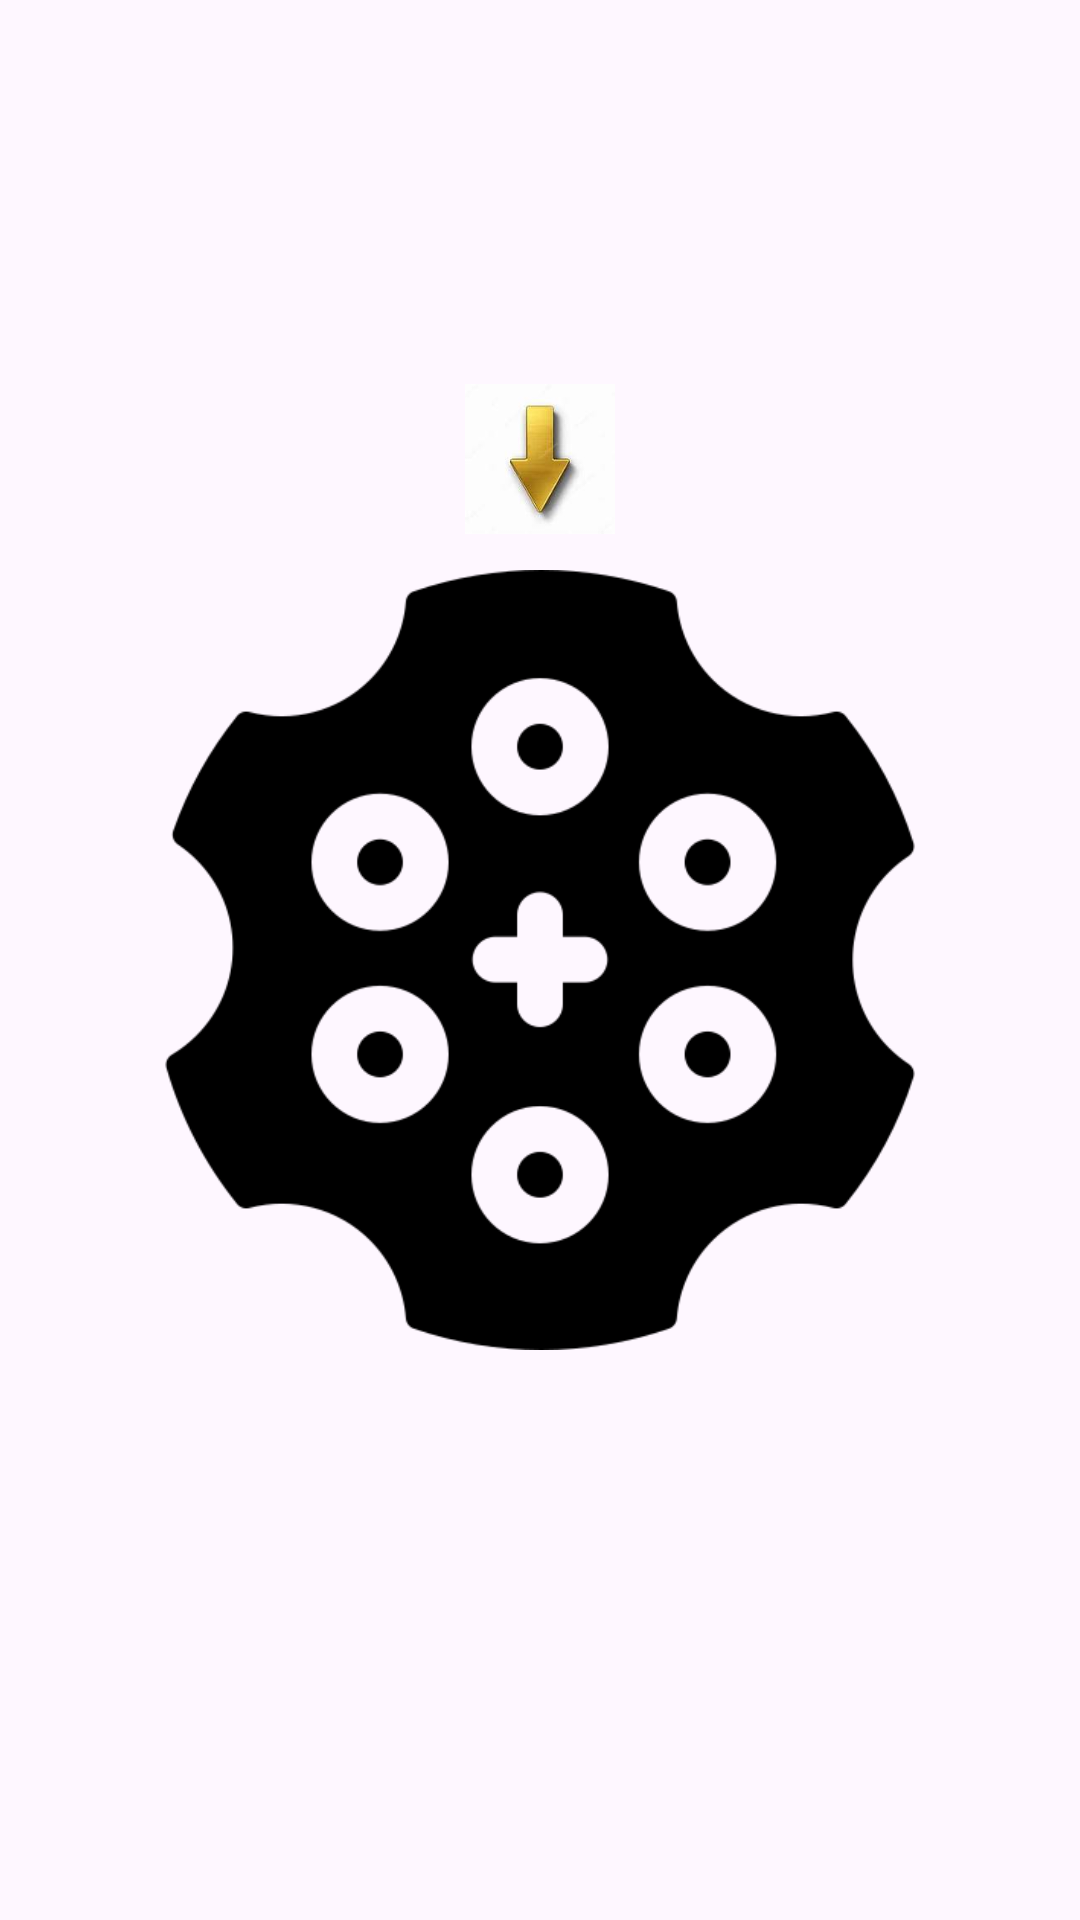

Where icons sit on this 1080px×1920px app screen, as (x1, y1, x2, y2):
flecha: (508, 404, 577, 521)
